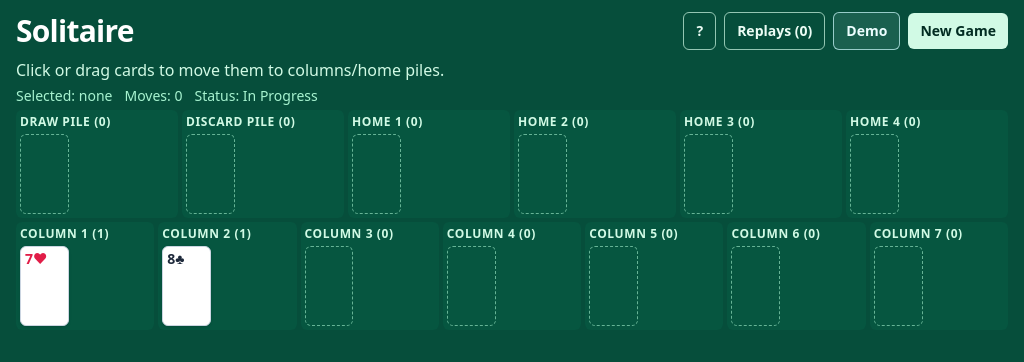
Test: App click-to-move interactions › moves a valid tableau card to another tableau by click selection
The image size is (1024, 362).
Click the button "7♥": (44, 286) [20,246,69,326]
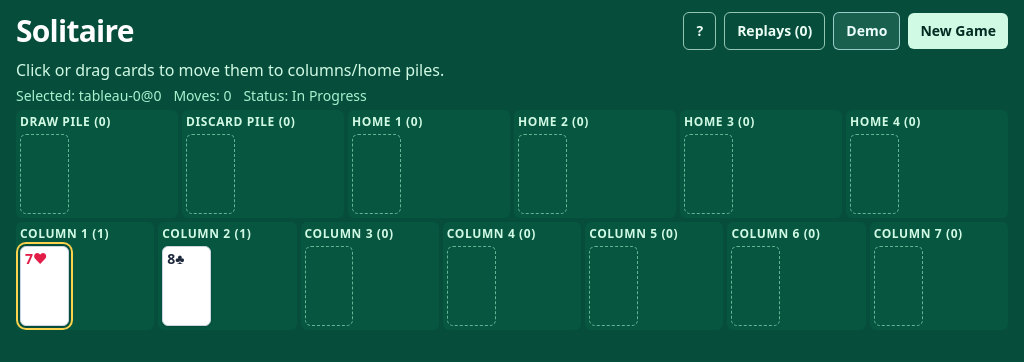
Click the button with test id "pile-tableau-1": (227, 276) [158,222,297,330]
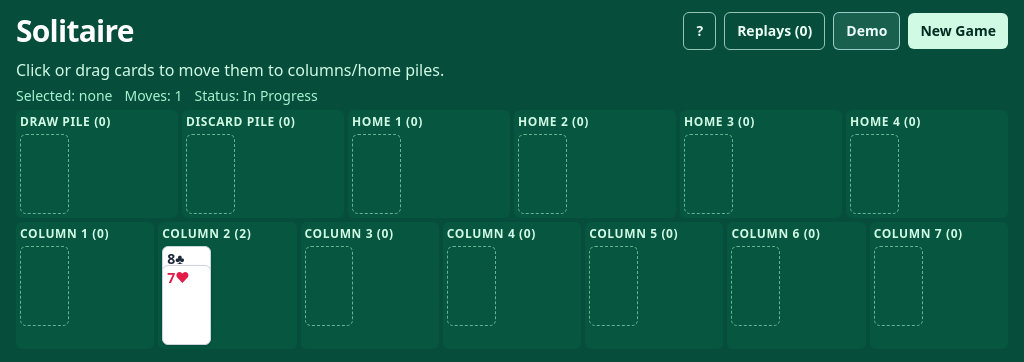
Expected: the text "Column 1 (0)" is shown, [20,225,109,242]
Expected: the text "Column 2 (2)" is shown, [162,225,251,242]
Expected: the text "Selected: none" is shown, [16,86,112,106]
